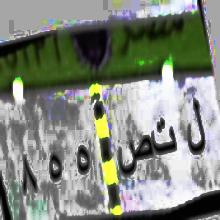5: (46, 143, 66, 202), (75, 138, 92, 190)
8: (19, 155, 39, 211)
laam: (184, 90, 208, 174)
saad: (116, 134, 153, 184)
taa: (151, 111, 178, 163)
